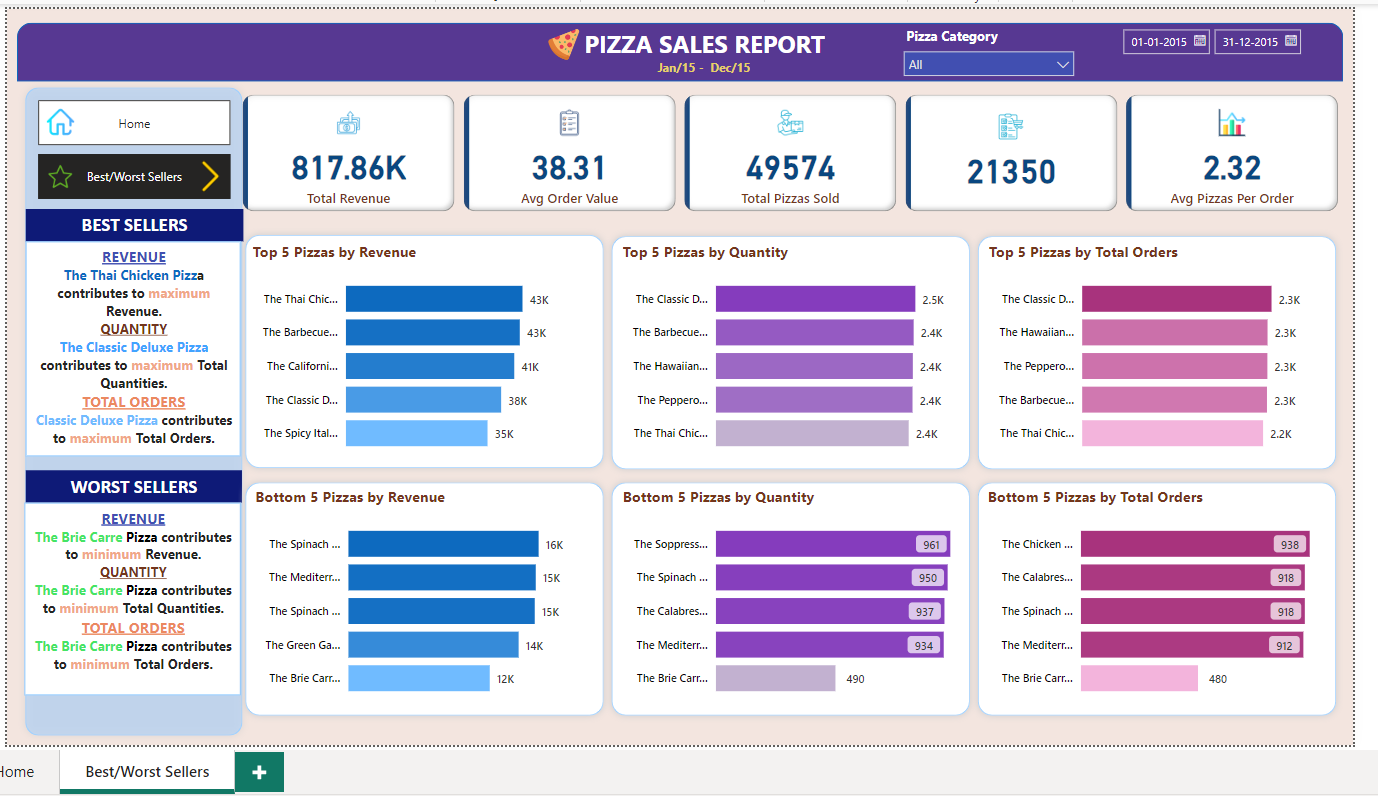

This screenshot's page, from the dashboard's own definition file:
{"tool":"powerbi","page":{"name":"Best/Worst Sellers","canvas":[1500,820],"ordinal":1},"visuals":[{"type":"shape","box":[12.5,79.4,257.6,737.9],"z":0},{"type":"cardVisual","fields":{"Data":["pizza_sales.Total Revenue","pizza_sales.Avg Order Value","pizza_sales.Total Pizzas Sold","pizza_sales.Total Orders","pizza_sales.Avg Pizzas Per Order"]},"box":[257.6,90.5,1230.7,140.6],"z":1000},{"type":"shape","box":[11.1,15.3,1477.1,65.4],"z":2000},{"type":"textbox","box":[620.9,15.3,311.9,45.9],"z":3000},{"type":"textbox","box":[708.6,51.5,135,29.2],"z":4000},{"type":"image","box":[597.2,16.7,45.9,45.9],"z":5000},{"type":"shape","box":[257.6,243.6,414.9,275.7],"z":6000},{"type":"textbox","box":[20.9,222.8,242.2,36.2],"z":7000},{"type":"textbox","box":[20.9,258.9,239.5,239.5],"z":8000},{"type":"textbox","box":[20.9,513.7,240.8,36.2],"z":9000},{"type":"textbox","box":[19.5,549.9,240.8,214.4],"z":10000},{"type":"slicer","fields":{"Values":["pizza_sales.pizza_category"]},"box":[988.5,15.3,210.2,64],"z":11000},{"type":"slicer","fields":{"Values":["pizza_sales.order_date"]},"box":[1230.7,12.5,224.1,66.8],"z":12000},{"type":"shape","box":[665.5,245,414.9,275.7],"z":13000},{"type":"shape","box":[1073.4,245,414.9,275.7],"z":14000},{"type":"shape","box":[257.6,519.3,414.9,275.7],"z":15000},{"type":"shape","box":[665.5,519.3,414.9,275.7],"z":16000},{"type":"shape","box":[1073.4,519.3,414.9,275.7],"z":17000},{"type":"barChart","title":"Top 5 Pizzas by Revenue","fields":{"Category":["pizza_sales.pizza_name"],"Y":["pizza_sales.Total Revenue"]},"box":[268.7,258.9,385.6,249.2],"z":18000},{"type":"barChart","title":"Bottom 5 Pizzas by Revenue","fields":{"Category":["pizza_sales.pizza_name"],"Y":["pizza_sales.Total Revenue"]},"box":[271.5,531.8,385.6,249.2],"z":19000},{"type":"barChart","title":"Top 5 Pizzas by Quantity","fields":{"Category":["pizza_sales.pizza_name"],"Y":["pizza_sales.Total Pizzas Sold"]},"box":[680.8,258.9,385.6,249.2],"z":20000},{"type":"barChart","title":"Bottom 5 Pizzas by Quantity","fields":{"Category":["pizza_sales.pizza_name"],"Y":["pizza_sales.Total Pizzas Sold"]},"box":[680.8,531.8,385.6,249.2],"z":21000},{"type":"barChart","title":"Top 5 Pizzas by Total Orders","fields":{"Category":["pizza_sales.pizza_name"],"Y":["pizza_sales.Total Orders"]},"box":[1088.7,258.9,385.6,249.2],"z":22000},{"type":"barChart","title":"Bottom 5 Pizzas by Total Orders","fields":{"Category":["pizza_sales.pizza_name"],"Y":["pizza_sales.Total Orders"]},"box":[1087.3,531.8,385.6,249.2],"z":23000},{"type":"pageNavigator","box":[34.8,161.5,214.4,50.1],"z":24000},{"type":"pageNavigator","box":[34.8,101.6,214.4,50.1],"z":25000},{"type":"image","box":[204.7,164.3,44.6,44.6],"z":26000},{"type":"image","box":[34.8,105.8,48.7,40.4],"z":27000},{"type":"image","box":[39,168.5,40.4,36.2],"z":28000}]}

Visuals, with their boxes on the page's 1500x820 design canvas (x1, y1, x2, y2). These are canvas units, not pixel positions in the 1378x796 screenshot, which may show the page scaled, cropped or inside an application window:
shape: x1=12 y1=79 x2=270 y2=817
cardVisual - pizza_sales.Total Revenue x pizza_sales.Avg Order Value: x1=258 y1=90 x2=1488 y2=231
shape: x1=11 y1=15 x2=1488 y2=81
textbox: x1=621 y1=15 x2=933 y2=61
textbox: x1=709 y1=52 x2=844 y2=81
image: x1=597 y1=17 x2=643 y2=63
shape: x1=258 y1=244 x2=672 y2=519
textbox: x1=21 y1=223 x2=263 y2=259
textbox: x1=21 y1=259 x2=260 y2=498
textbox: x1=21 y1=514 x2=262 y2=550
textbox: x1=20 y1=550 x2=260 y2=764
slicer - pizza_sales.pizza_category: x1=988 y1=15 x2=1199 y2=79
slicer - pizza_sales.order_date: x1=1231 y1=12 x2=1455 y2=79
shape: x1=666 y1=245 x2=1080 y2=521
shape: x1=1073 y1=245 x2=1488 y2=521
shape: x1=258 y1=519 x2=672 y2=795
shape: x1=666 y1=519 x2=1080 y2=795
shape: x1=1073 y1=519 x2=1488 y2=795
"Top 5 Pizzas by Revenue" barChart: x1=269 y1=259 x2=654 y2=508
"Bottom 5 Pizzas by Revenue" barChart: x1=272 y1=532 x2=657 y2=781
"Top 5 Pizzas by Quantity" barChart: x1=681 y1=259 x2=1066 y2=508
"Bottom 5 Pizzas by Quantity" barChart: x1=681 y1=532 x2=1066 y2=781
"Top 5 Pizzas by Total Orders" barChart: x1=1089 y1=259 x2=1474 y2=508
"Bottom 5 Pizzas by Total Orders" barChart: x1=1087 y1=532 x2=1473 y2=781
pageNavigator: x1=35 y1=162 x2=249 y2=212
pageNavigator: x1=35 y1=102 x2=249 y2=152
image: x1=205 y1=164 x2=249 y2=209
image: x1=35 y1=106 x2=84 y2=146
image: x1=39 y1=168 x2=79 y2=205
